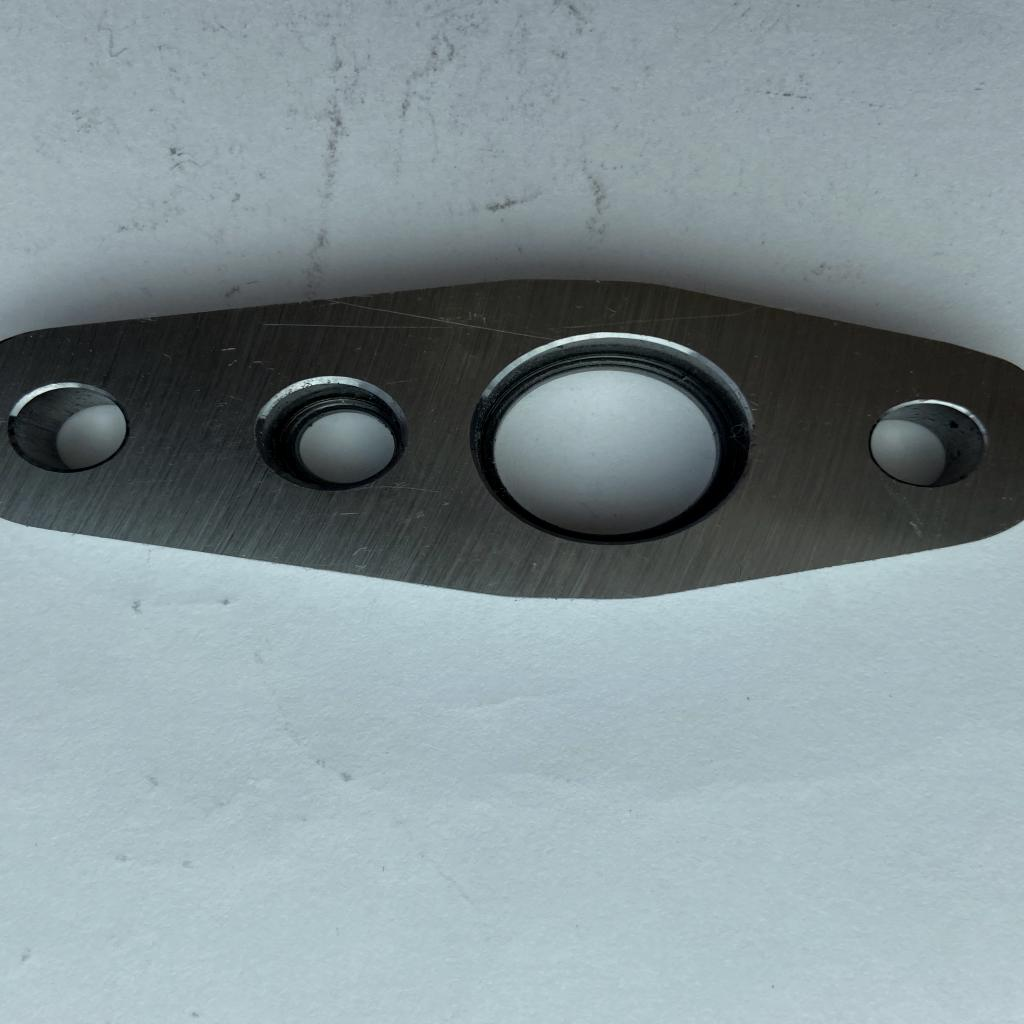chap: (252, 357, 294, 381), (212, 344, 246, 355), (336, 509, 363, 519)
lines: (339, 302, 450, 325), (455, 322, 546, 340), (256, 318, 335, 330), (908, 507, 928, 540)
